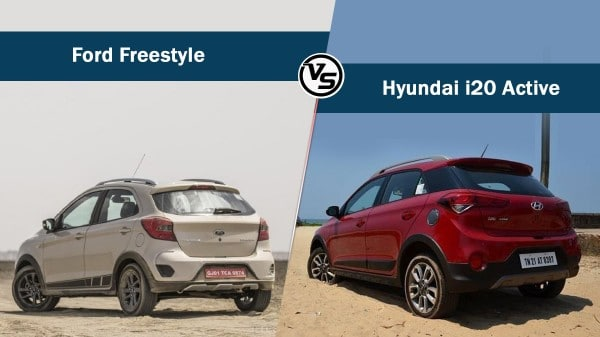car: (305, 150, 587, 323), (8, 171, 278, 326)
